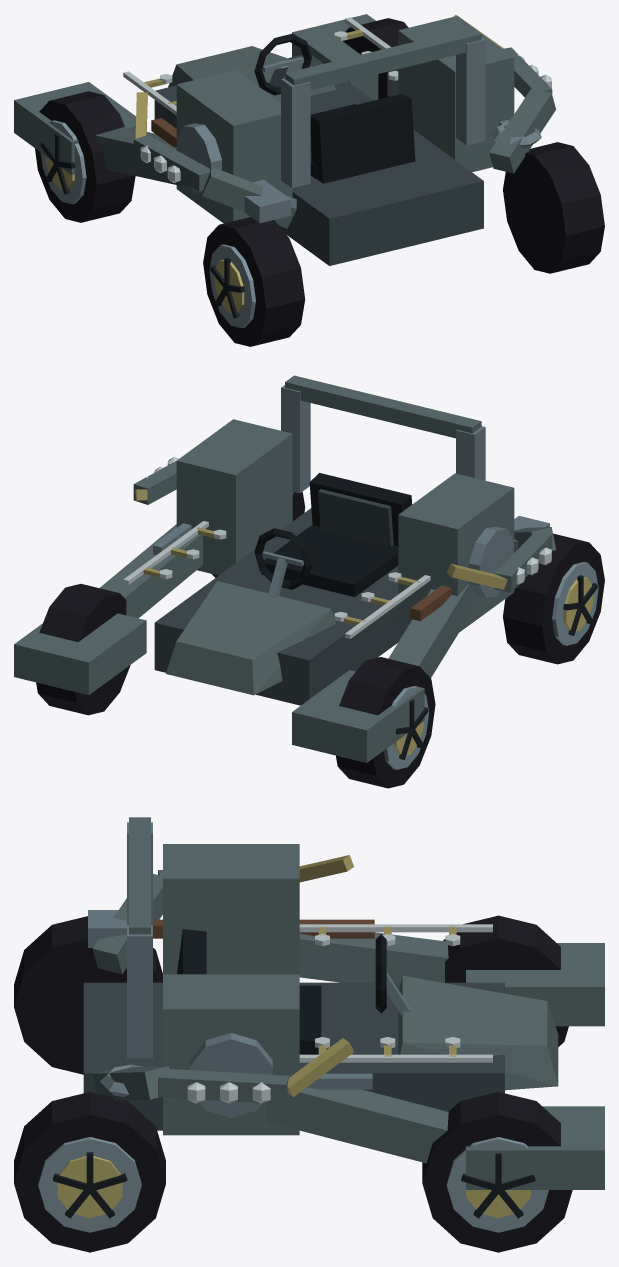
The model's file is kart.glb.
The picture shows the model from 3 angles, top to bottom: view 1: azimuth 30°, elevation 25°; view 2: azimuth 150°, elevation 25°; view 3: azimuth 270°, elevation 25°; orthographic projection. The views are drawn at different scales.
Parts seen in each view (by area): view 1: identity-mech-mech-articulated-limbs-and-open-harness, wheel-rear-left, wheel-rear-right, identity-mech-driver-cockpit, wheel-front-left, identity-mech-motif-tentacles, identity-mech-motif-tools, identity-mech-motif-circuit, wheel-front-right; view 2: identity-mech-mech-articulated-limbs-and-open-harness, identity-mech-driver-cockpit, wheel-rear-left, wheel-front-left, wheel-front-right, identity-mech-motif-tentacles, identity-mech-motif-circuit, identity-mech-motif-tools; view 3: identity-mech-mech-articulated-limbs-and-open-harness, wheel-rear-right, wheel-front-right, wheel-rear-left, identity-mech-motif-tentacles, wheel-front-left, identity-mech-motif-circuit, identity-mech-driver-cockpit, identity-mech-motif-tools.
Boxes of the visible parts, x1=… form: identity-mech-mech-articulated-limbs-and-open-harness: x1=14, y1=14, x2=514, y2=265; wheel-rear-left: x1=203, y1=217, x2=305, y2=346; wheel-rear-right: x1=503, y1=142, x2=604, y2=273; identity-mech-driver-cockpit: x1=254, y1=34, x2=415, y2=183; wheel-front-left: x1=35, y1=91, x2=135, y2=222; identity-mech-motif-tentacles: x1=133, y1=14, x2=555, y2=228; identity-mech-motif-tools: x1=151, y1=118, x2=541, y2=223; identity-mech-motif-circuit: x1=123, y1=17, x2=398, y2=115; wheel-front-right: x1=342, y1=18, x2=408, y2=99; identity-mech-mech-articulated-limbs-and-open-harness: x1=14, y1=375, x2=514, y2=762; identity-mech-driver-cockpit: x1=254, y1=473, x2=412, y2=598; wheel-rear-left: x1=503, y1=533, x2=604, y2=664; wheel-front-left: x1=336, y1=657, x2=435, y2=788; wheel-front-right: x1=36, y1=584, x2=130, y2=715; identity-mech-motif-tentacles: x1=133, y1=457, x2=555, y2=592; identity-mech-motif-circuit: x1=123, y1=521, x2=430, y2=638; identity-mech-motif-tools: x1=153, y1=516, x2=549, y2=621; identity-mech-mech-articulated-limbs-and-open-harness: x1=83, y1=817, x2=604, y2=1189; wheel-rear-right: x1=14, y1=1092, x2=165, y2=1252; wheel-front-right: x1=422, y1=1092, x2=572, y2=1252; wheel-rear-left: x1=14, y1=916, x2=162, y2=1074; identity-mech-motif-tentacles: x1=92, y1=855, x2=354, y2=1104; wheel-front-left: x1=443, y1=915, x2=568, y2=1046; identity-mech-motif-circuit: x1=299, y1=924, x2=492, y2=1062; identity-mech-driver-cockpit: x1=177, y1=929, x2=410, y2=1054; identity-mech-motif-tools: x1=88, y1=910, x2=374, y2=1096.
Bounding box in the file's own units: 2.45 × 1.42 × 2.72.
